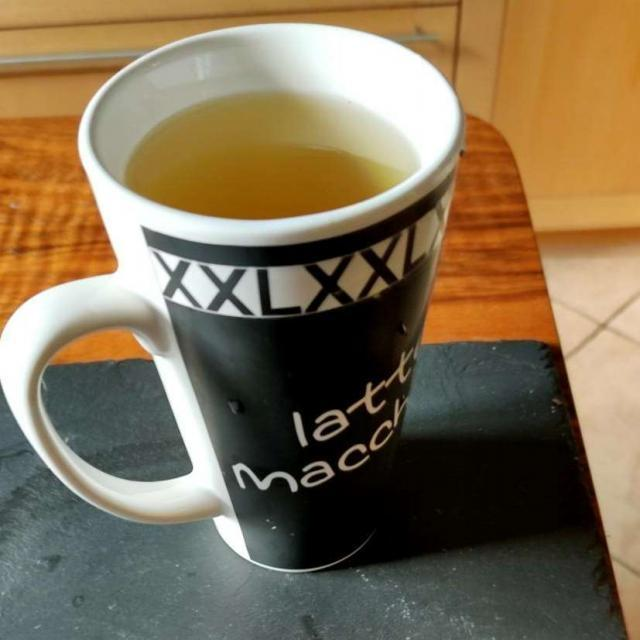tea: (129, 92, 404, 214)
